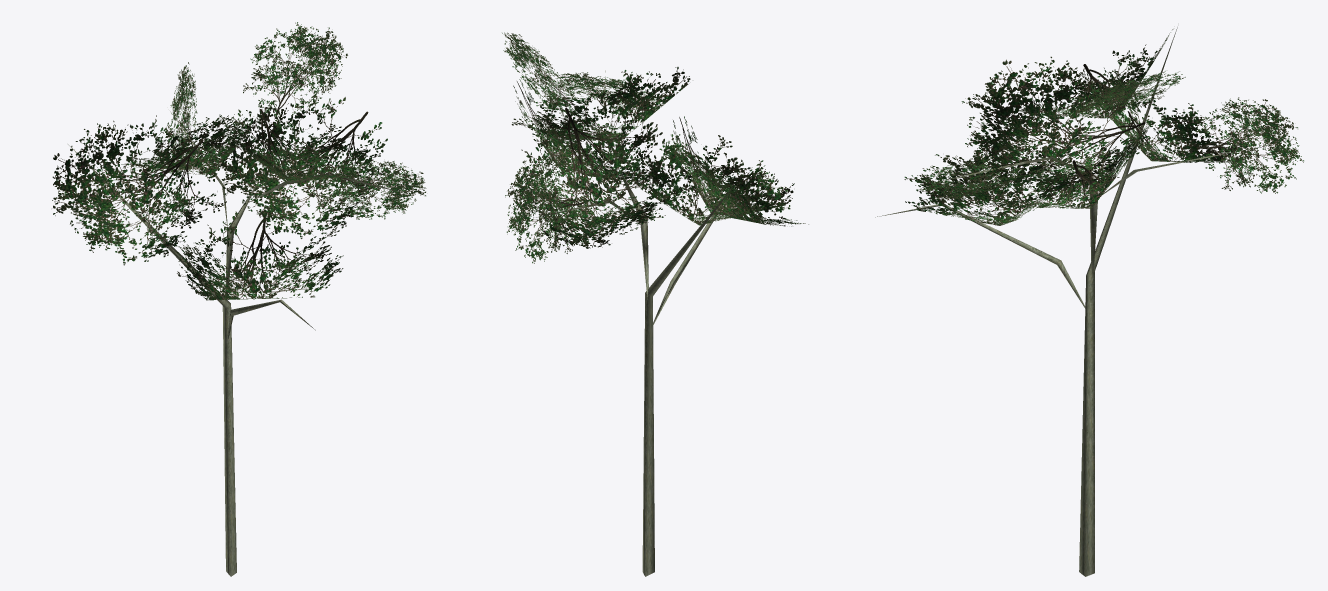
File: nboo_decd_cambylictustree_l3.fbx
The picture shows the model from 3 angles, left to right: view 1: azimuth 30°, elevation 25°; view 2: azimuth 150°, elevation 25°; view 3: azimuth 270°, elevation 25°; orthographic projection. The views are drawn at different scales.
Parts seen in each view (by area): view 1: mesh_node; view 2: mesh_node; view 3: mesh_node.
Boxes of the visible parts, x1,y1,x2,y2 form: mesh_node: (52, 22, 426, 576); mesh_node: (502, 32, 808, 576); mesh_node: (875, 27, 1303, 576).
Bounding box in the file's own units: 35.79 × 52.04 × 37.38.
